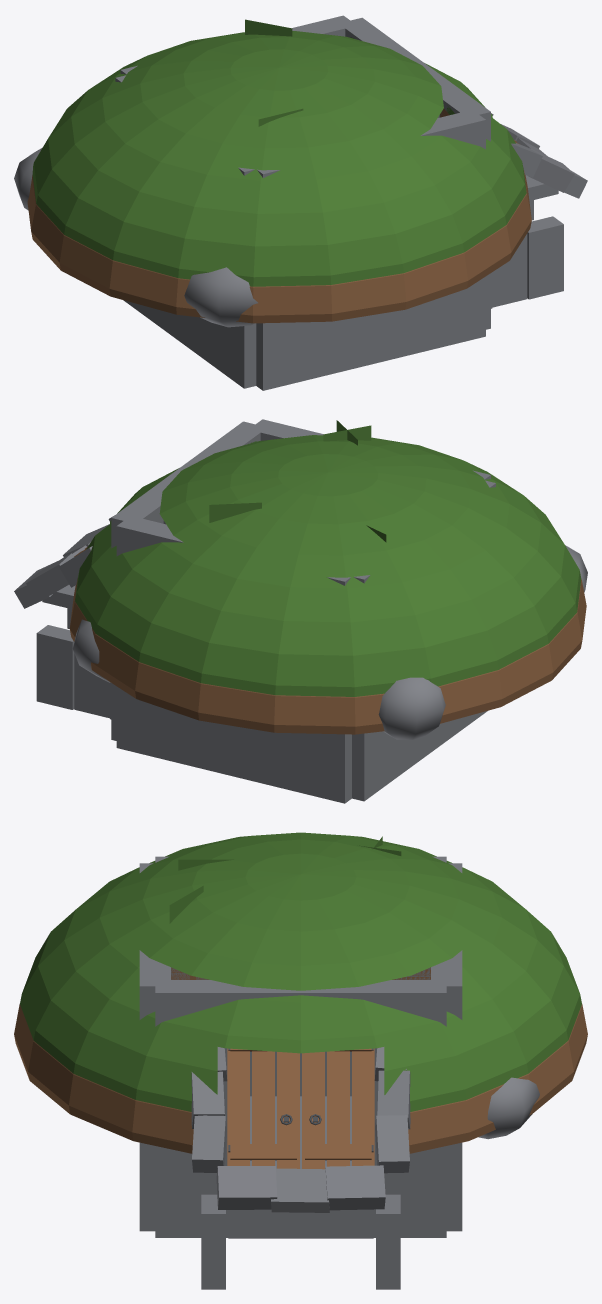
Rendered from root-cellar.glb.
The picture shows the model from 3 angles, top to bottom: view 1: azimuth 30°, elevation 25°; view 2: azimuth 150°, elevation 25°; view 3: azimuth 270°, elevation 25°; orthographic projection. The views are drawn at different scales.
Visible parts, largest first — view 1: Mesh_GrassSod, Mesh_DirtMound, Mesh_CellarRoom_WallRight, Mesh_CellarRoom_WallBack, Mesh_Boulder1, Mesh_StairWallL3, Mesh_StairWallL2, Mesh_CellarRoom_WallFront_R, Mesh_RimL3, Mesh_CellarRoom_WallLeft, Mesh_CellarRoom_WallFront_L, Mesh_Boulder2 (+3 smaller); view 2: Mesh_GrassSod, Mesh_DirtMound, Mesh_CellarRoom_WallLeft, Mesh_CellarRoom_WallBack, Mesh_Boulder2, Mesh_StairWallR3, Mesh_StairWallR2, Mesh_CellarRoom_WallFront_L, Mesh_RimR3, Mesh_Boulder3, Mesh_CellarRoom_WallRight, Mesh_CellarRoom_WallFront_R (+4 smaller); view 3: Mesh_GrassSod, Mesh_DirtMound, Mesh_CellarRoom_WallFront_R, Mesh_CellarRoom_WallFront_L, Mesh_CellarRoom_WallLeft, Mesh_CellarRoom_WallRight, Mesh_RimBot3, Mesh_RimBot1, Mesh_RimBot2, Mesh_PlankL3, Mesh_PlankR3, Mesh_PlankR2 (+17 smaller).
Part boxes in pixels (x1=…): Mesh_GrassSod: x1=32, y1=31, x2=526, y2=286; Mesh_DirtMound: x1=27, y1=108, x2=531, y2=323; Mesh_CellarRoom_WallRight: x1=256, y1=110, x2=485, y2=390; Mesh_CellarRoom_WallBack: x1=115, y1=75, x2=256, y2=388; Mesh_Boulder1: x1=184, y1=267, x2=257, y2=327; Mesh_StairWallL3: x1=527, y1=216, x2=563, y2=299; Mesh_StairWallL2: x1=492, y1=234, x2=527, y2=307; Mesh_CellarRoom_WallFront_R: x1=439, y1=89, x2=490, y2=329; Mesh_RimL3: x1=528, y1=147, x2=574, y2=192; Mesh_CellarRoom_WallLeft: x1=120, y1=15, x2=356, y2=74; Mesh_CellarRoom_WallFront_L: x1=339, y1=17, x2=392, y2=44; Mesh_Boulder2: x1=14, y1=147, x2=42, y2=210; Mesh_GrassSod: x1=75, y1=435, x2=581, y2=696; Mesh_DirtMound: x1=69, y1=578, x2=586, y2=734; Mesh_CellarRoom_WallLeft: x1=116, y1=516, x2=351, y2=803; Mesh_CellarRoom_WallBack: x1=352, y1=480, x2=495, y2=801; Mesh_Boulder2: x1=378, y1=677, x2=445, y2=739; Mesh_StairWallR3: x1=36, y1=625, x2=74, y2=709; Mesh_StairWallR2: x1=74, y1=653, x2=109, y2=718; Mesh_CellarRoom_WallFront_L: x1=111, y1=494, x2=163, y2=740; Mesh_RimR3: x1=26, y1=553, x2=73, y2=601; Mesh_Boulder3: x1=73, y1=619, x2=110, y2=682; Mesh_CellarRoom_WallRight: x1=249, y1=419, x2=490, y2=479; Mesh_CellarRoom_WallFront_R: x1=212, y1=421, x2=266, y2=448; Mesh_GrassSod: x1=20, y1=832, x2=581, y2=1111; Mesh_DirtMound: x1=14, y1=967, x2=587, y2=1153; Mesh_CellarRoom_WallFront_R: x1=155, y1=980, x2=228, y2=1237; Mesh_CellarRoom_WallFront_L: x1=373, y1=980, x2=446, y2=1237; Mesh_CellarRoom_WallLeft: x1=431, y1=863, x2=462, y2=1231; Mesh_CellarRoom_WallRight: x1=139, y1=863, x2=170, y2=1231; Mesh_RimBot3: x1=325, y1=1165, x2=385, y2=1210; Mesh_RimBot1: x1=216, y1=1166, x2=277, y2=1209; Mesh_RimBot2: x1=271, y1=1168, x2=329, y2=1212; Mesh_PlankL3: x1=227, y1=1048, x2=249, y2=1165; Mesh_PlankR3: x1=352, y1=1048, x2=374, y2=1165; Mesh_PlankR2: x1=327, y1=1051, x2=349, y2=1166.
Bounding box in the file's own units: 3.09 × 1.5 × 2.76.
2 materials, 2 textured.
